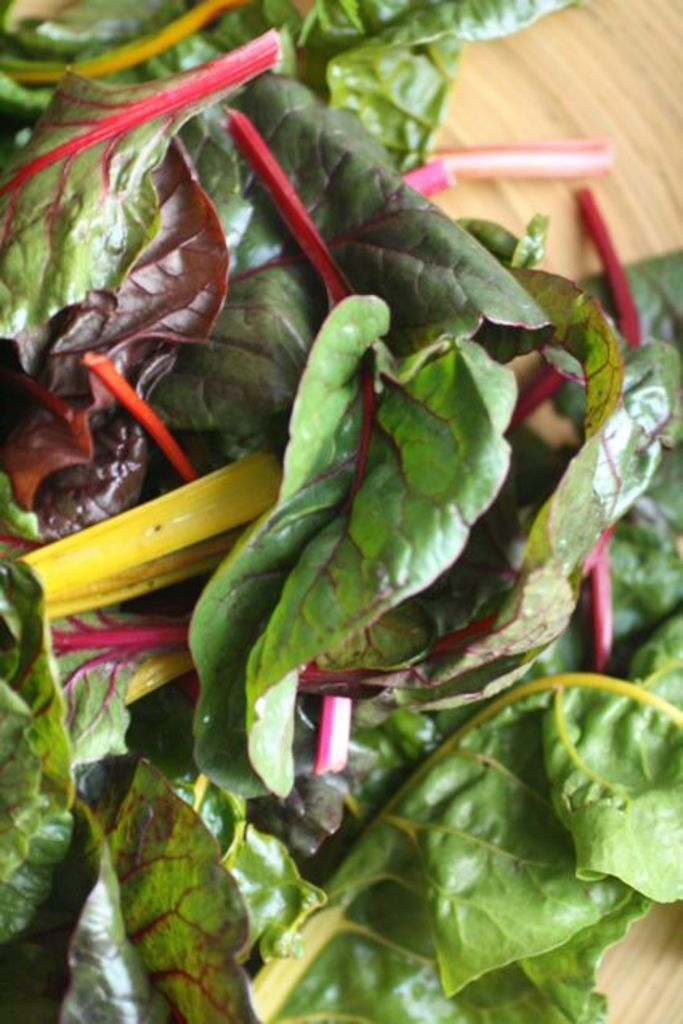salad: (0, 0, 681, 1022)
